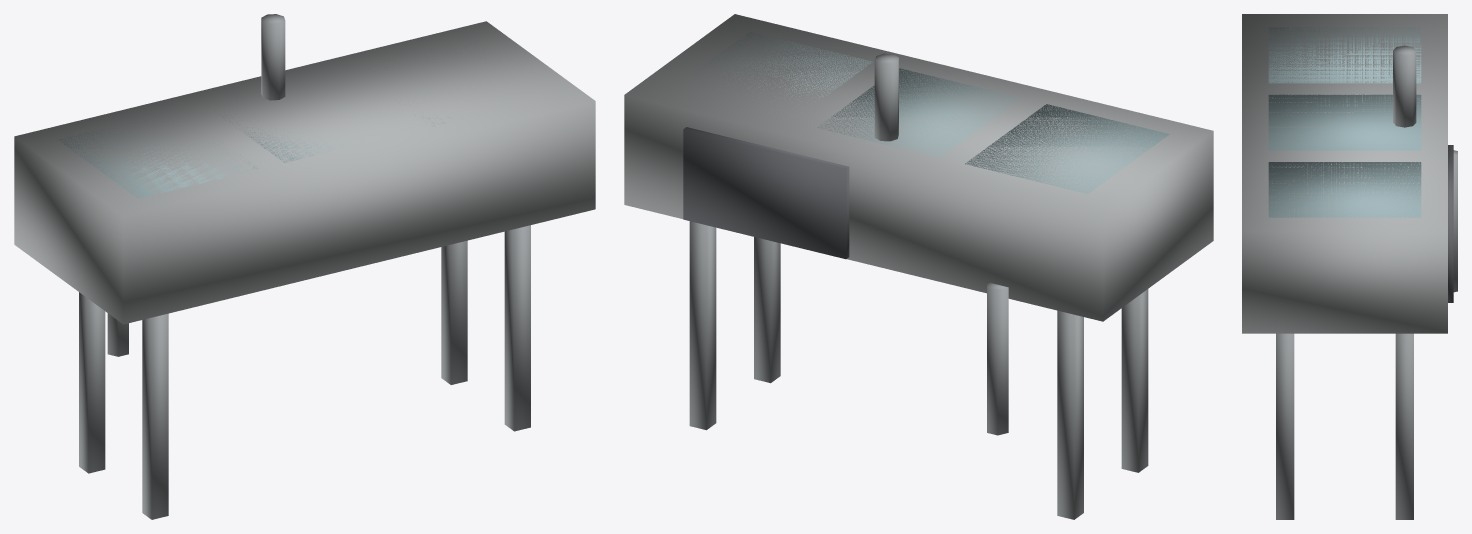
Rendered from three_bay_sink__service.glb.
3 renders of one model, left to right at view 1: azimuth 30°, elevation 25°; view 2: azimuth 150°, elevation 25°; view 3: azimuth 270°, elevation 25°, orthographic. The views are drawn at different scales.
Visible parts, largest first — view 1: world; view 2: world; view 3: world.
Boxes of the visible parts, x1=… form: world: x1=14, y1=14, x2=595, y2=519; world: x1=624, y1=14, x2=1213, y2=519; world: x1=1242, y1=14, x2=1457, y2=519.
Size of the model in its own units: 1.55 by 1.27 by 0.6503.
